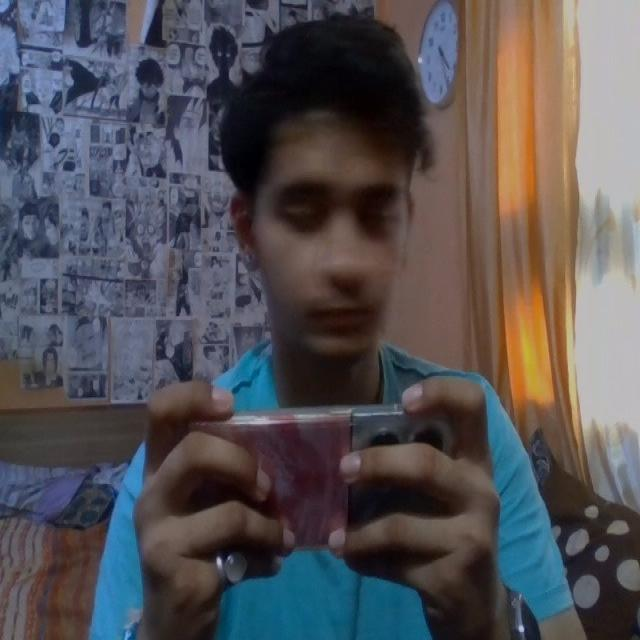phone: (181, 417, 463, 559)
using-phone: (83, 14, 590, 640)
